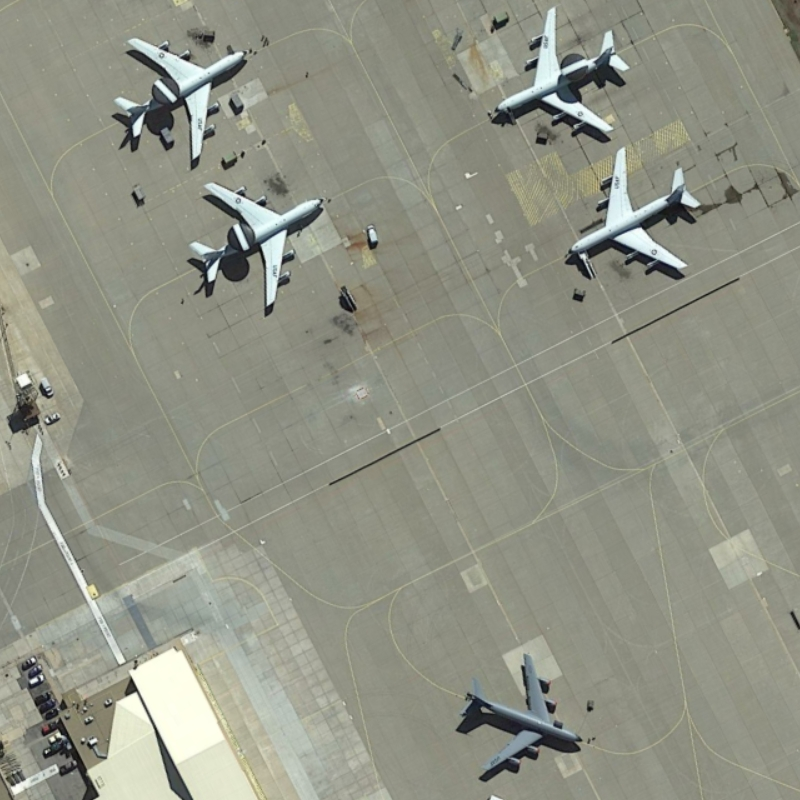A11: (560, 144, 706, 283)
A14: (456, 644, 589, 784)
A7: (182, 172, 326, 322), (476, 4, 630, 143), (107, 31, 258, 166)
